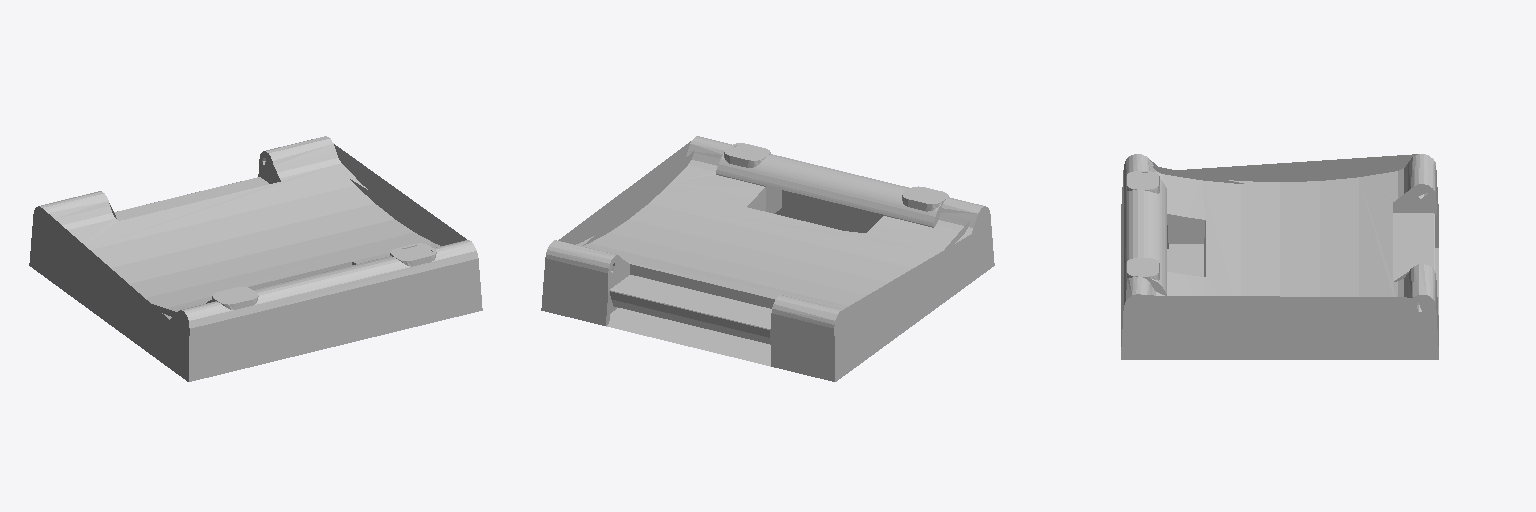
3 views of the same model, side by side, from view 1: azimuth 30°, elevation 25°; view 2: azimuth 150°, elevation 25°; view 3: azimuth 270°, elevation 25° (orthographic).
Parts seen in each view (by area): view 1: 5418-Sr; view 2: 5418-Sr; view 3: 5418-Sr.
Boxes of the visible parts, x1=… form: 5418-Sr: x1=29, y1=136, x2=482, y2=381; 5418-Sr: x1=541, y1=136, x2=994, y2=381; 5418-Sr: x1=1121, y1=154, x2=1438, y2=359.
Size of the model in its own units: 1.62 by 0.3379 by 1.51.